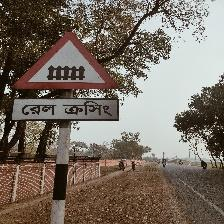Rail-crossing: (10, 31, 122, 123)
